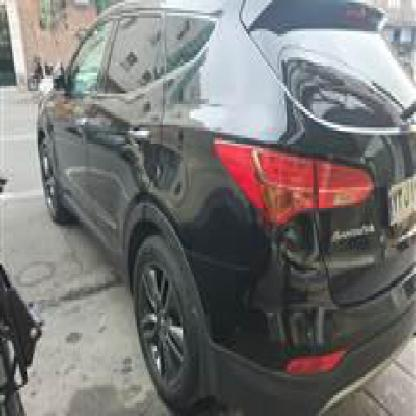car: (31, 6, 414, 414)
